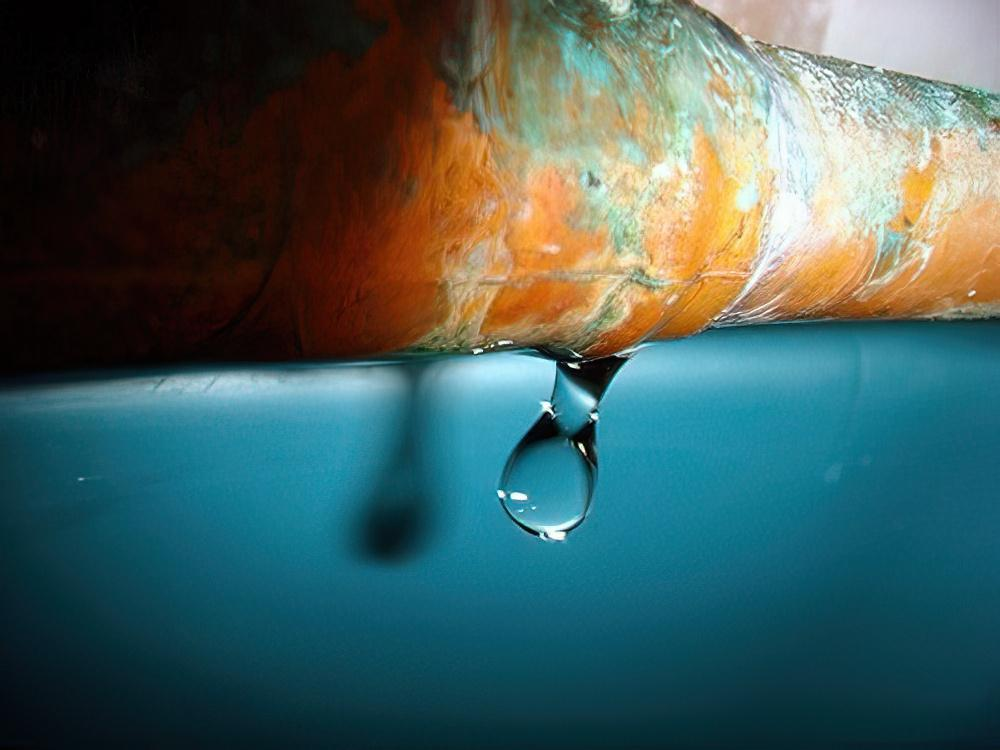water drop: (495, 346, 635, 546)
